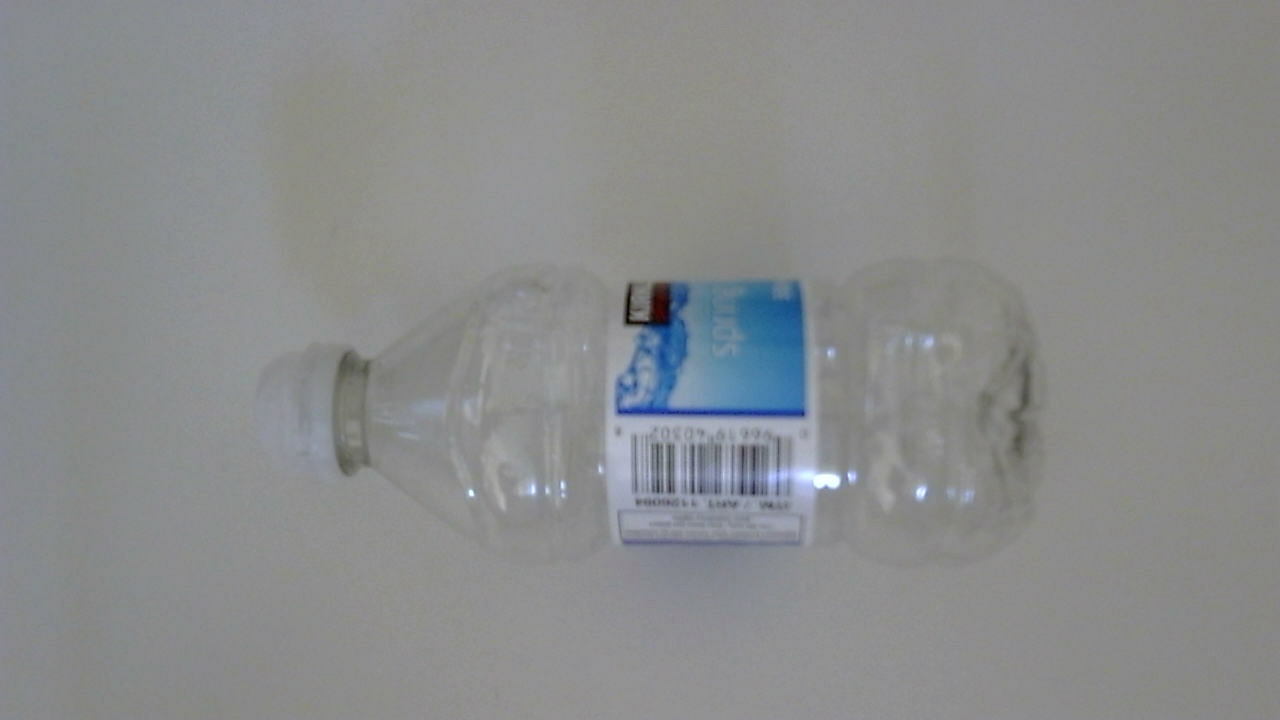Plastic Bottle: (247, 264, 1060, 593)
